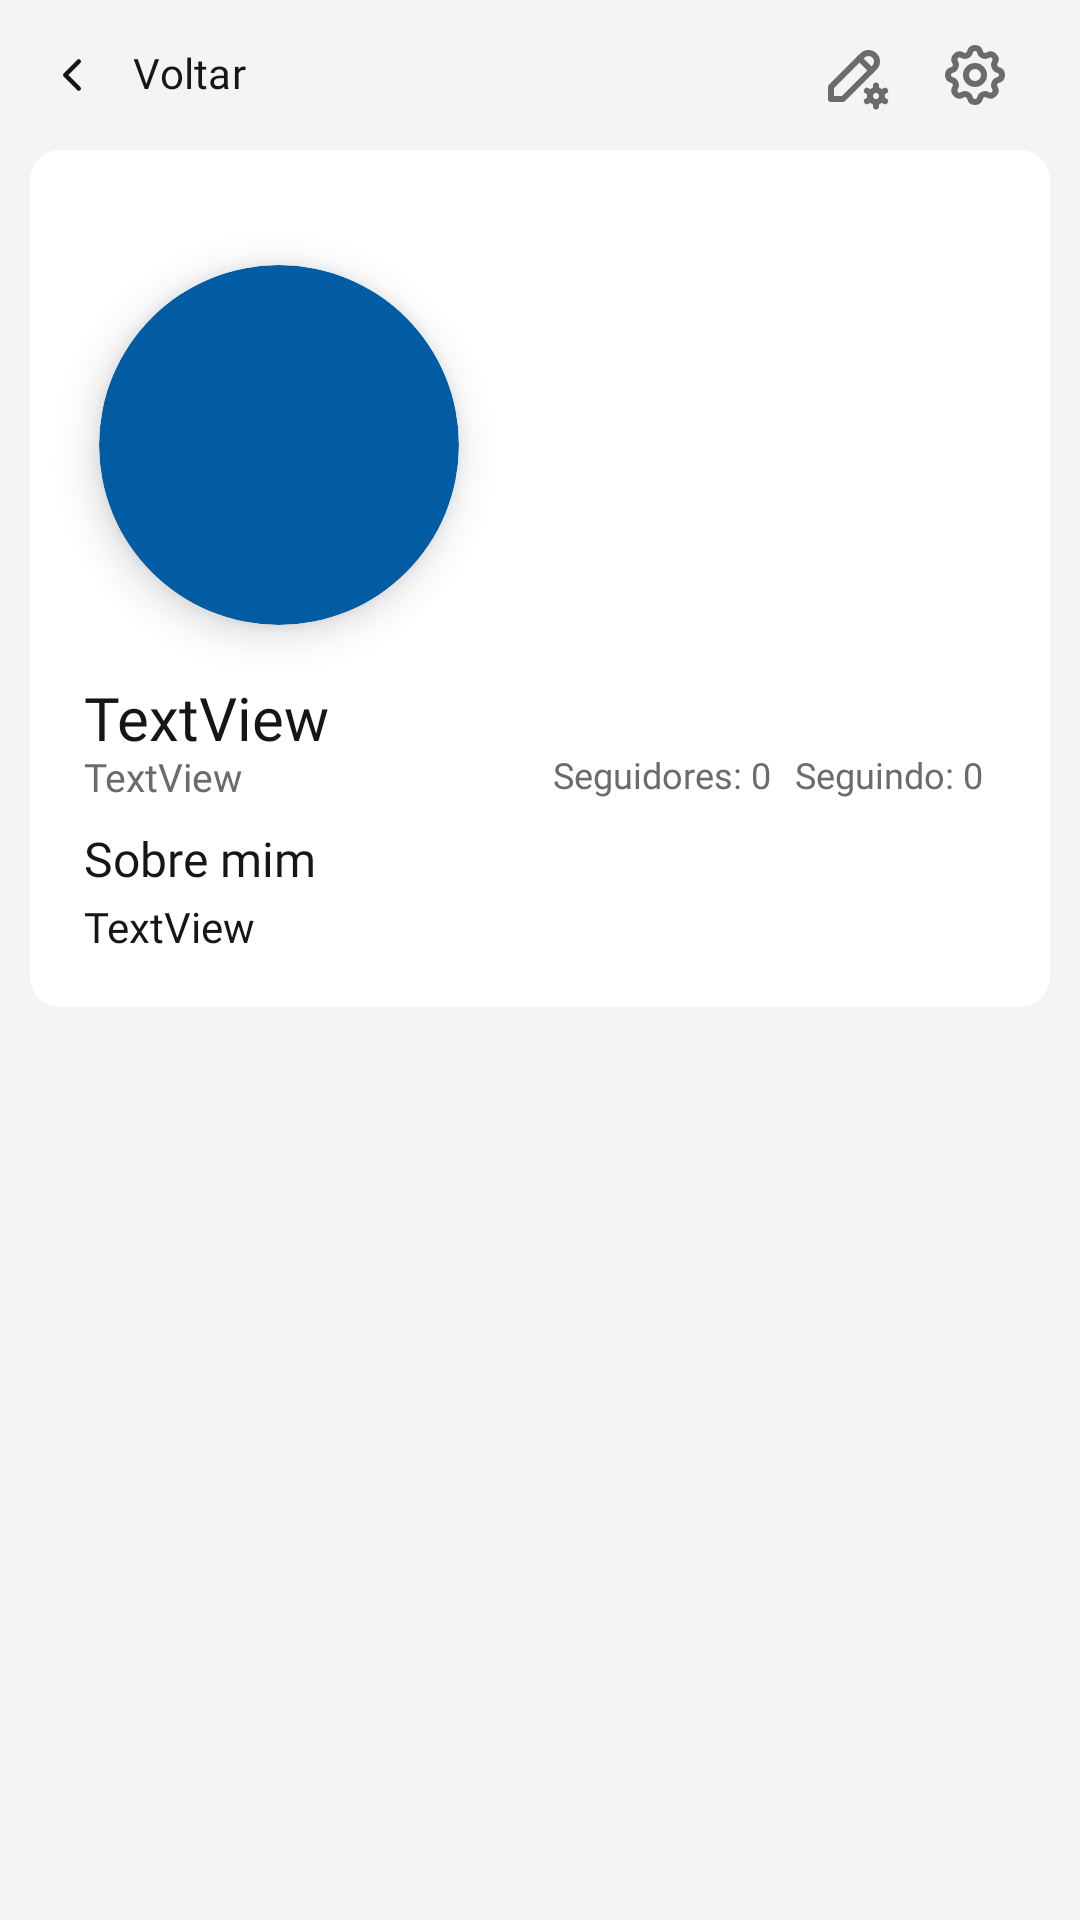

Locate icon controls on the screen. Image size 1080 x 1920, boxes as (x1,y1,x2,y2).
pencil cog: (828,50,889,110)
settings: (945,45,1005,105)
